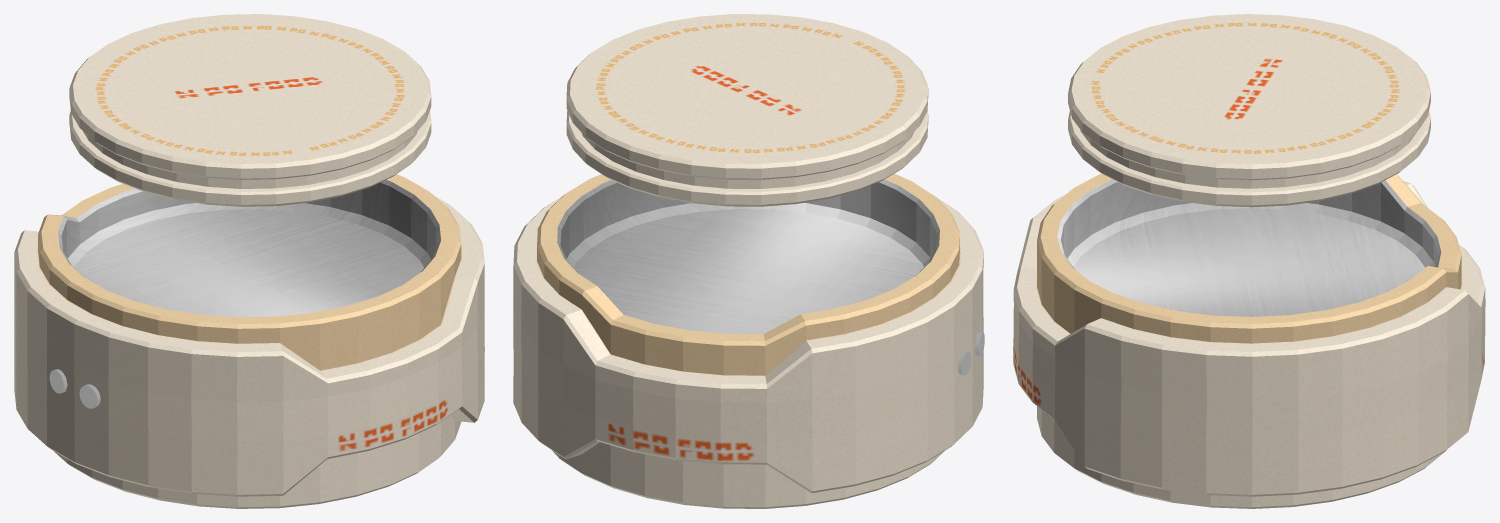
The model's file is Charging.glb.
3 renders of one model, left to right at view 1: azimuth 30°, elevation 25°; view 2: azimuth 150°, elevation 25°; view 3: azimuth 270°, elevation 25°, orthographic.
Visible parts, largest first — view 1: 充电盒, 芯片; view 2: 充电盒, 芯片; view 3: 充电盒, 芯片.
Part boxes in pixels (left/top/right/bottom): 充电盒: left=14, top=174, right=484, bottom=508; 芯片: left=69, top=14, right=431, bottom=206; 充电盒: left=513, top=173, right=983, bottom=508; 芯片: left=566, top=14, right=928, bottom=206; 充电盒: left=1013, top=173, right=1485, bottom=508; 芯片: left=1068, top=14, right=1430, bottom=207.
Bounding box in the file's own units: 2.01 × 1.55 × 2.
Materials: 2 (1 with a texture image).
